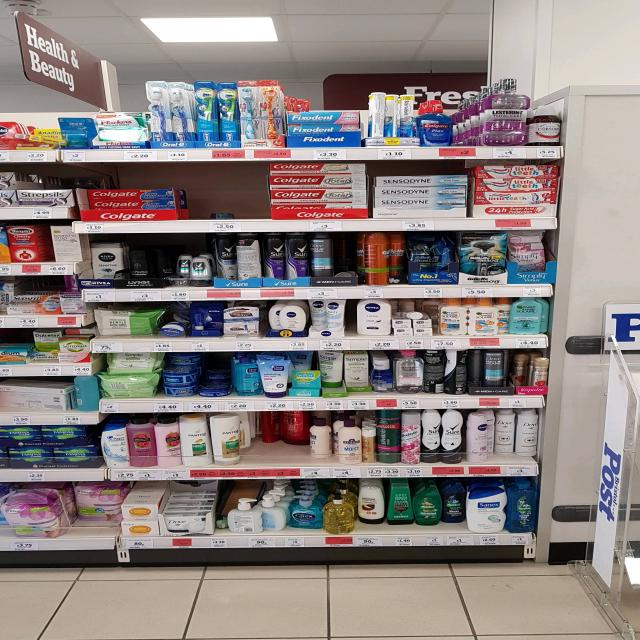unorganised: (356, 478, 466, 531), (360, 232, 408, 287), (70, 487, 122, 537), (494, 405, 538, 463), (423, 347, 469, 395), (417, 97, 455, 146), (224, 496, 272, 534), (209, 416, 243, 466), (259, 412, 303, 447), (353, 298, 392, 337), (370, 89, 398, 142), (235, 233, 262, 281), (289, 495, 322, 532), (156, 417, 180, 466), (307, 416, 332, 461), (437, 301, 468, 337), (233, 355, 259, 397), (467, 414, 489, 462), (320, 353, 345, 387), (467, 351, 487, 389), (310, 301, 326, 333), (514, 354, 528, 389), (397, 307, 424, 322), (499, 297, 509, 334), (174, 256, 190, 278), (210, 208, 232, 222)
